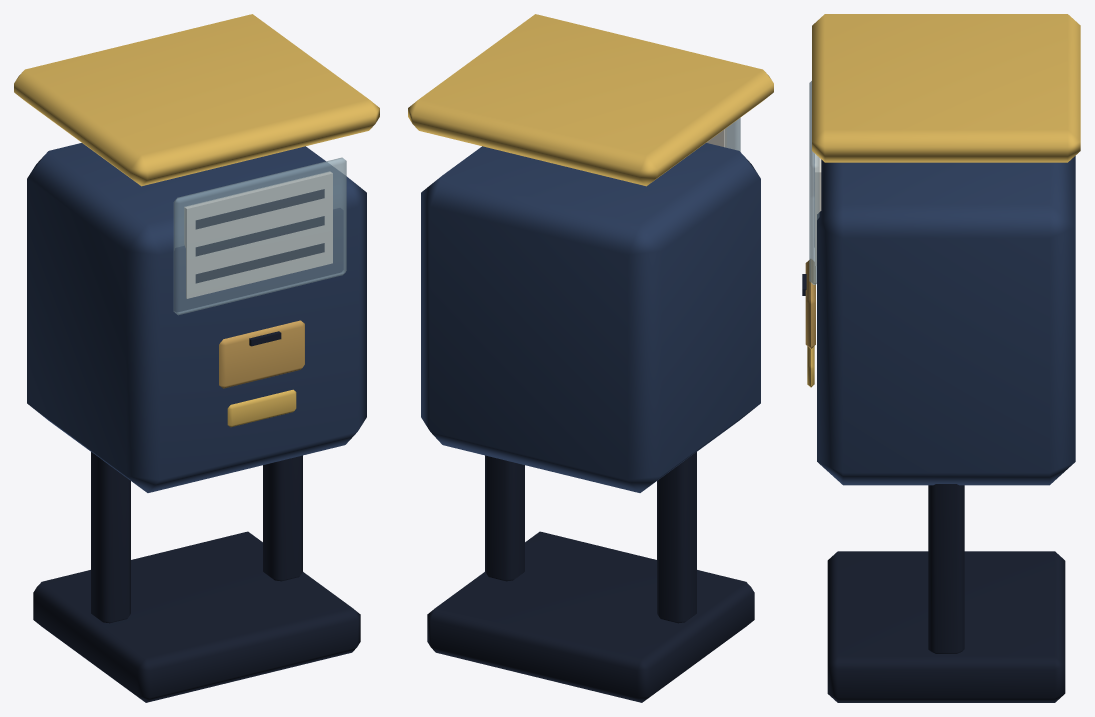
File: newspaper_box.glb
The picture shows the model from 3 angles, left to right: view 1: azimuth 30°, elevation 25°; view 2: azimuth 150°, elevation 25°; view 3: azimuth 270°, elevation 25°; orthographic projection. The views are drawn at different scales.
Parts seen in each view (by area): view 1: newspaper_box; view 2: newspaper_box; view 3: newspaper_box.
Boxes of the visible parts, x1=… form: newspaper_box: x1=14, y1=14, x2=379, y2=702; newspaper_box: x1=408, y1=14, x2=773, y2=702; newspaper_box: x1=802, y1=14, x2=1080, y2=702.
Size of the model in its own units: 0.58 by 1.24 by 0.539.
